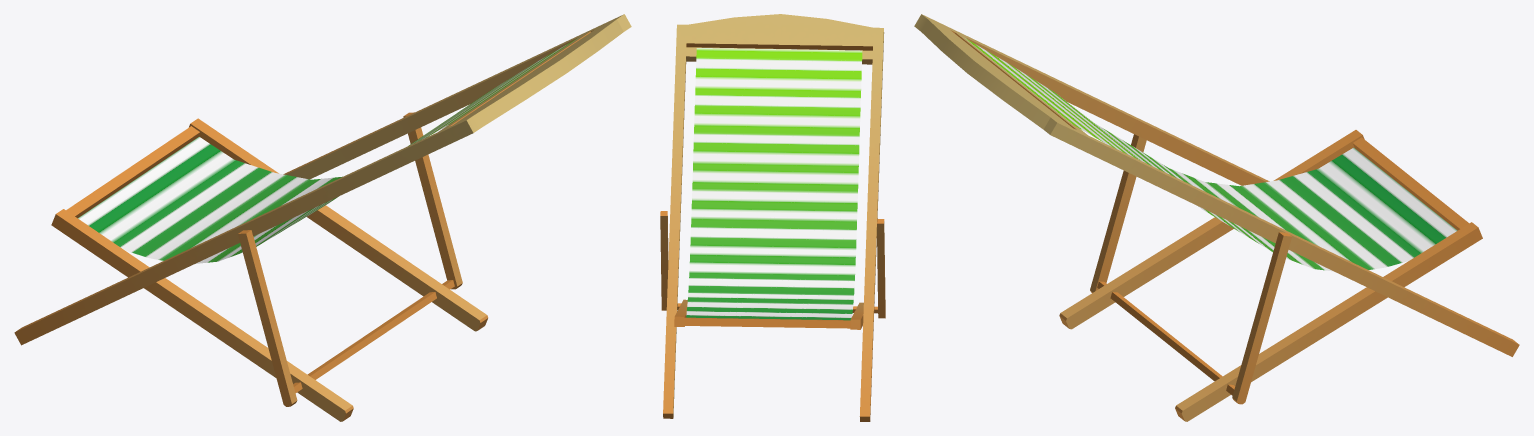
Rendered from ENV_BeachChair4.fbx.
3 views of the same model, side by side, from view 1: azimuth 30°, elevation 25°; view 2: azimuth 150°, elevation 25°; view 3: azimuth 270°, elevation 25° (orthographic). The views are drawn at different scales.
Parts seen in each view (by area): view 1: ENV_BeachChair4; view 2: ENV_BeachChair4; view 3: ENV_BeachChair4.
Boxes of the visible parts, <box> form: ENV_BeachChair4: <box>14,14,631,421</box>; ENV_BeachChair4: <box>660,14,885,421</box>; ENV_BeachChair4: <box>914,14,1519,421</box>.
Size of the model in its own units: 1.49 by 1.12 by 1.78.
